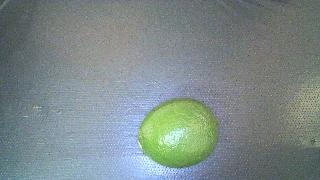EXPORTACION: (138, 98, 219, 168)
